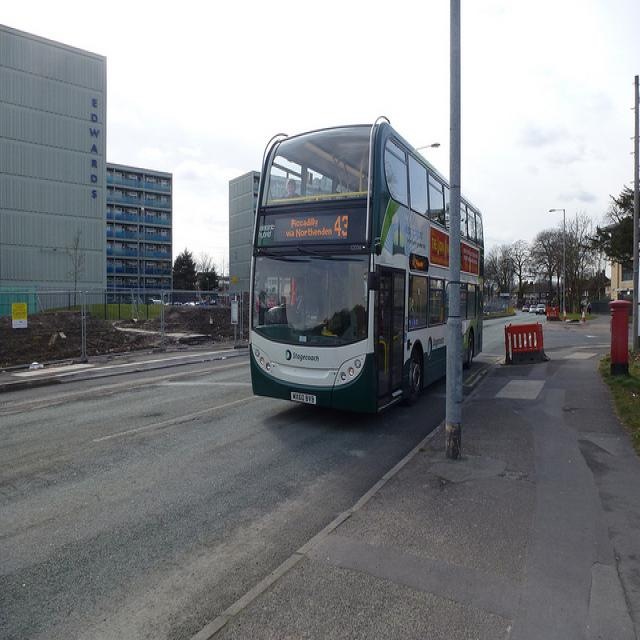Vehicle: (249, 116, 482, 415), (535, 302, 547, 316), (528, 303, 537, 314), (522, 305, 528, 312)
